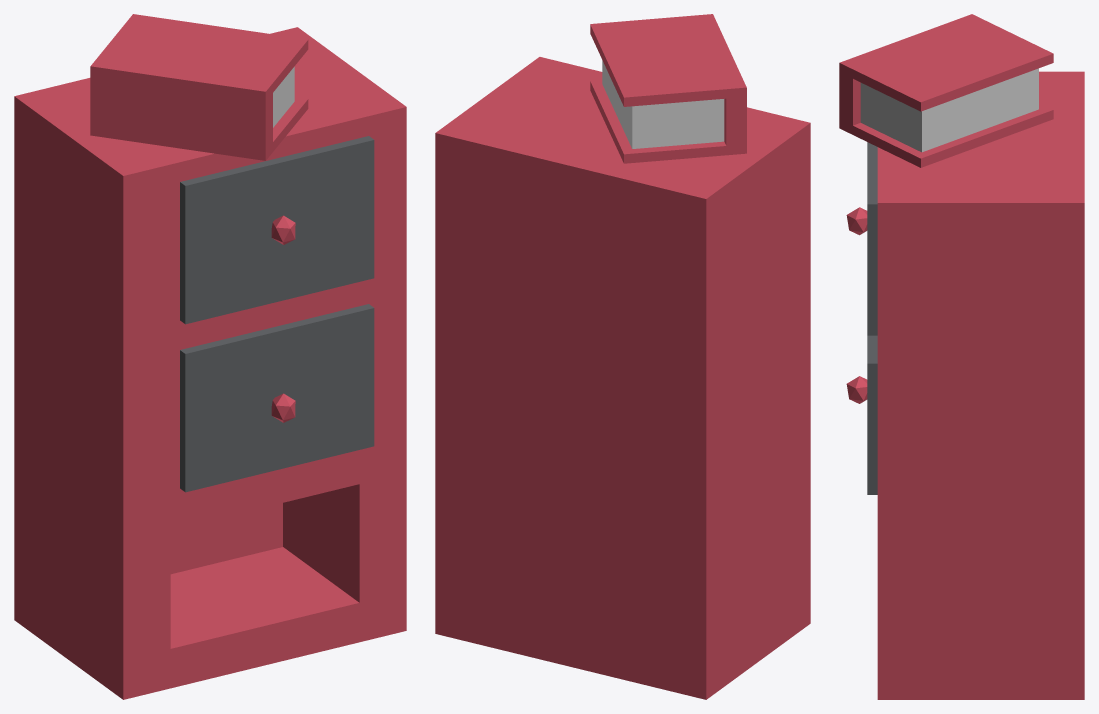
The model's file is Super Tumelo-Kasi.glb.
3 views of the same model, side by side, from view 1: azimuth 30°, elevation 25°; view 2: azimuth 150°, elevation 25°; view 3: azimuth 270°, elevation 25° (orthographic). The views are drawn at different scales.
Visible parts, largest first — view 1: Mesh_Mesh_head_geo.001_lambert2SG.001; view 2: Mesh_Mesh_head_geo.001_lambert2SG.001; view 3: Mesh_Mesh_head_geo.001_lambert2SG.001.
Part boxes in pixels (x1=…): Mesh_Mesh_head_geo.001_lambert2SG.001: x1=14, y1=14, x2=406, y2=699; Mesh_Mesh_head_geo.001_lambert2SG.001: x1=435, y1=14, x2=810, y2=699; Mesh_Mesh_head_geo.001_lambert2SG.001: x1=839, y1=14, x2=1084, y2=699.
Bounding box in the file's own units: 30 × 60 × 23.7.
